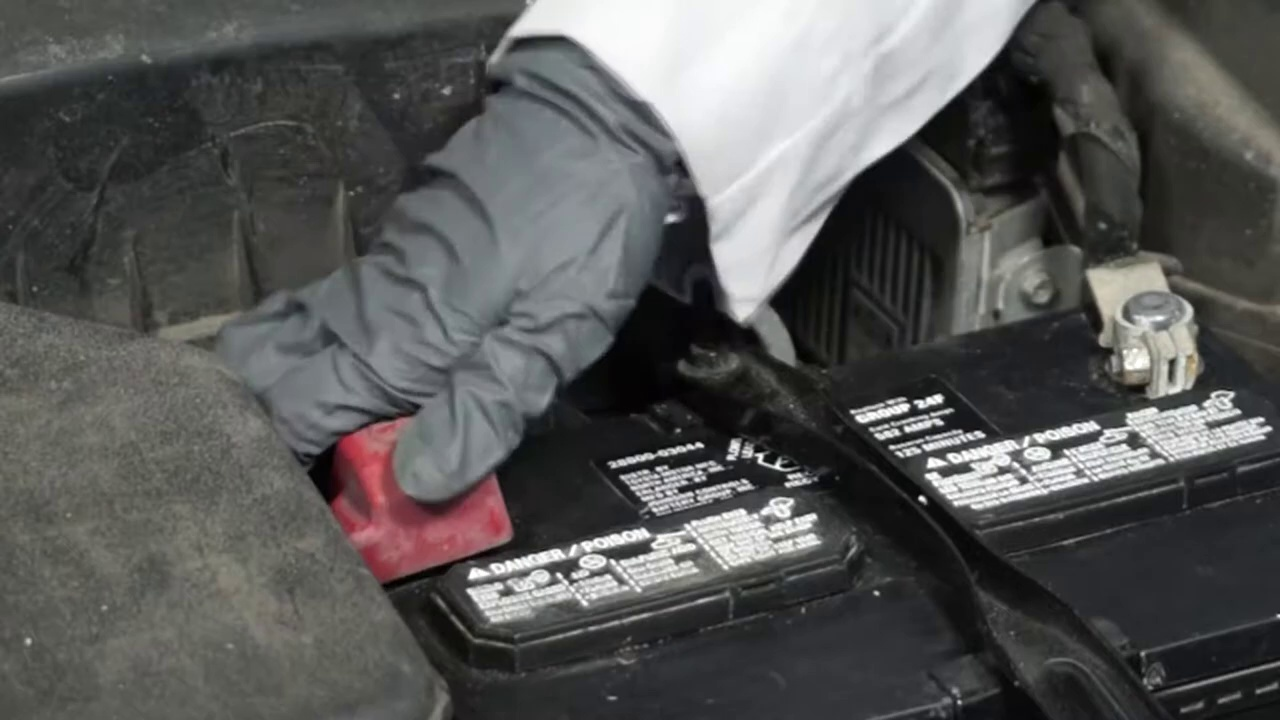battery: (285, 273, 1280, 697)
neg_connected: (1011, 206, 1245, 404)
pos_touched: (276, 262, 539, 577)
